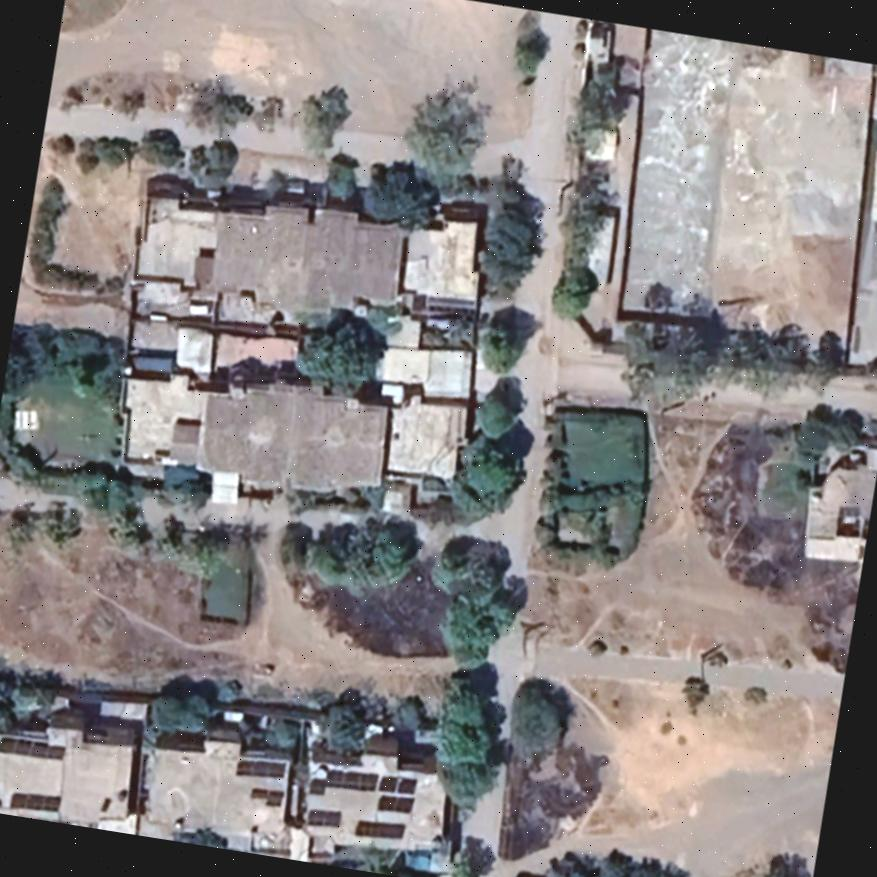Solarpanel: (298, 758, 431, 817), (299, 798, 416, 849), (236, 752, 291, 811), (0, 729, 73, 766), (2, 785, 69, 815)
